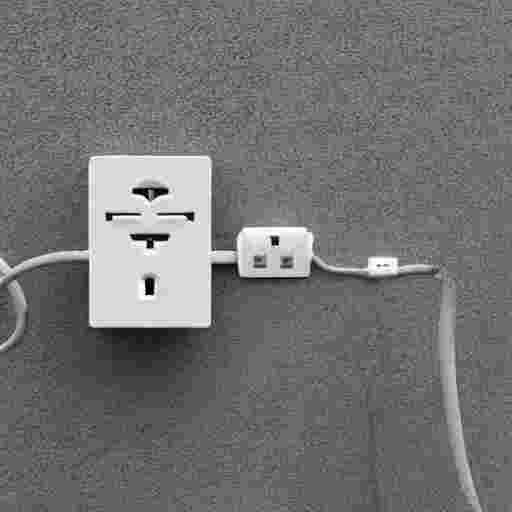power outlet: (89, 155, 211, 327), (237, 227, 313, 277), (368, 256, 398, 276)
